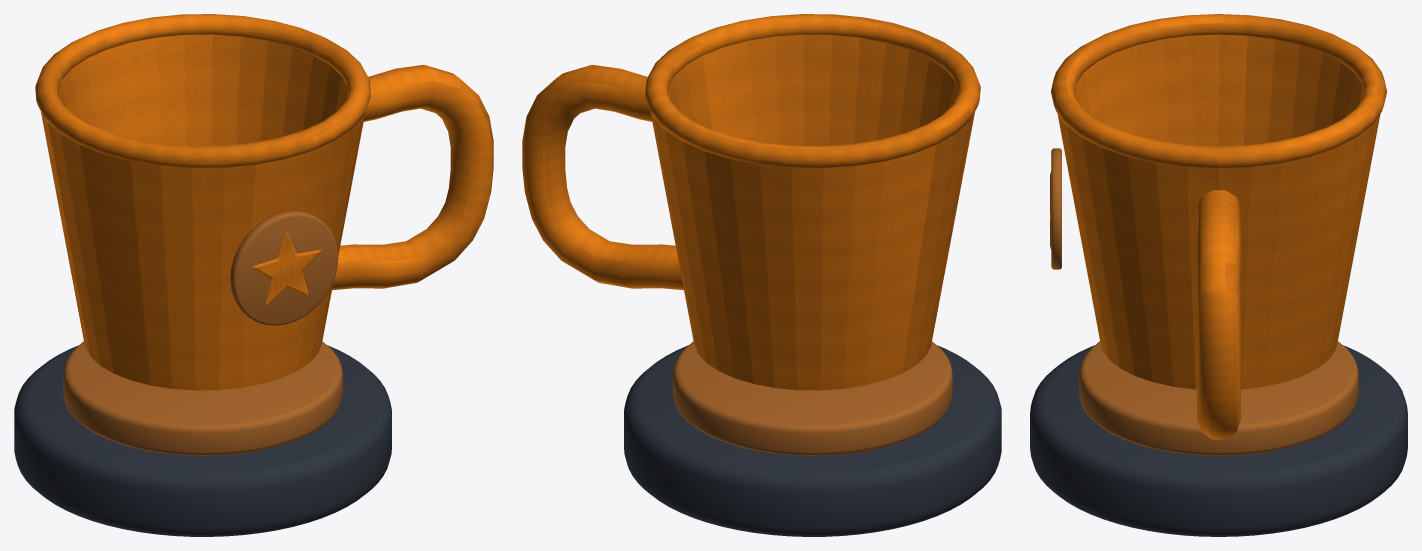
File: Office_Mug_Trophy.fbx
3 views of the same model, side by side, from view 1: azimuth 30°, elevation 25°; view 2: azimuth 150°, elevation 25°; view 3: azimuth 270°, elevation 25° (orthographic).
Visible parts, largest first — view 1: Mug body (rounded 32-sided), Smooth round pedestal base, Pedestal collar, Faceted gold rim, Single oversized mug handle, Achievement badge backing, Raised five-point achievement star; view 2: Mug body (rounded 32-sided), Smooth round pedestal base, Pedestal collar, Faceted gold rim, Single oversized mug handle; view 3: Mug body (rounded 32-sided), Smooth round pedestal base, Pedestal collar, Faceted gold rim, Single oversized mug handle, Achievement badge backing.
Boxes of the visible parts, x1=… form: Mug body (rounded 32-sided): x1=41, y1=34, x2=365, y2=390; Smooth round pedestal base: x1=14, y1=345, x2=391, y2=536; Pedestal collar: x1=63, y1=341, x2=342, y2=455; Faceted gold rim: x1=35, y1=14, x2=370, y2=168; Single oversized mug handle: x1=332, y1=65, x2=493, y2=290; Achievement badge backing: x1=230, y1=211, x2=338, y2=325; Raised five-point achievement star: x1=252, y1=232, x2=321, y2=306; Mug body (rounded 32-sided): x1=650, y1=34, x2=974, y2=390; Smooth round pedestal base: x1=624, y1=345, x2=1001, y2=536; Pedestal collar: x1=673, y1=341, x2=952, y2=455; Faceted gold rim: x1=645, y1=14, x2=980, y2=168; Single oversized mug handle: x1=522, y1=65, x2=683, y2=290; Mug body (rounded 32-sided): x1=1057, y1=34, x2=1380, y2=389; Smooth round pedestal base: x1=1030, y1=345, x2=1407, y2=536; Pedestal collar: x1=1079, y1=341, x2=1358, y2=455; Faceted gold rim: x1=1050, y1=14, x2=1387, y2=168; Single oversized mug handle: x1=1197, y1=190, x2=1240, y2=439; Achievement badge backing: x1=1051, y1=148, x2=1061, y2=269.
Size of the model in its own units: 201 by 162 by 146.
5 materials, 2 textured.
